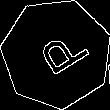P_SW: (25, 25, 88, 82)
